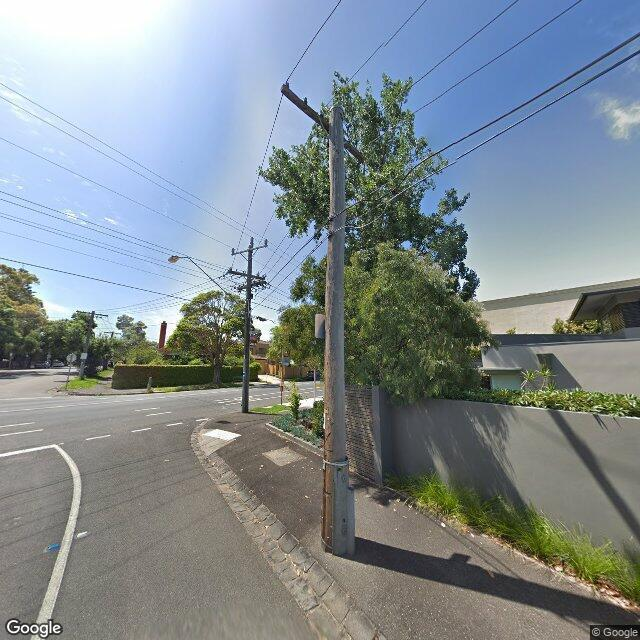HV-transmission: (231, 236, 268, 256)
crossarm: (279, 82, 367, 164), (218, 267, 266, 280), (234, 280, 272, 293), (234, 246, 267, 256), (76, 310, 108, 319), (104, 331, 121, 335)
streetlight: (168, 255, 246, 311)
timber-pole: (322, 105, 356, 557), (241, 245, 254, 413), (79, 310, 95, 380), (112, 331, 115, 337)
